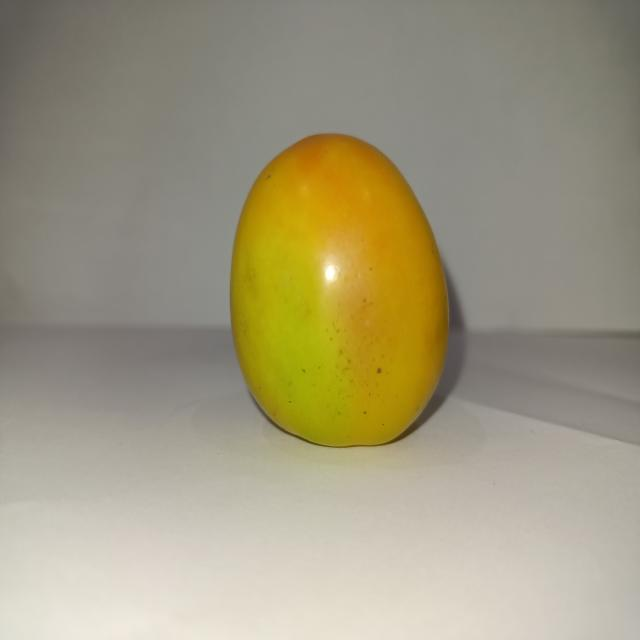Red: (228, 131, 451, 448)
